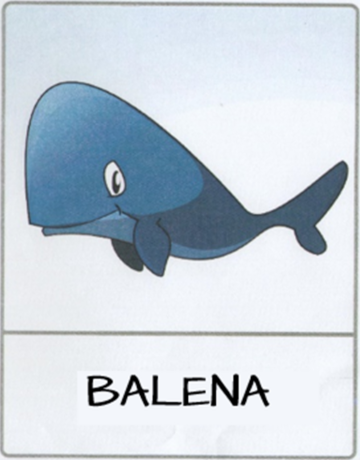balena: (10, 48, 360, 442)
